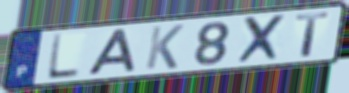8: (194, 21, 231, 66)
A: (85, 27, 138, 77)
K: (143, 23, 186, 71)
L: (44, 32, 83, 81)
T: (294, 11, 332, 59)
X: (235, 13, 288, 66)
